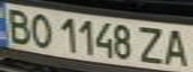1: (54, 15, 78, 53), (75, 17, 96, 55)
4: (93, 19, 115, 57)
8: (112, 21, 136, 61)
A: (160, 26, 193, 69)
B: (0, 6, 33, 45)
O: (24, 11, 57, 48)
Z: (136, 24, 166, 65)
